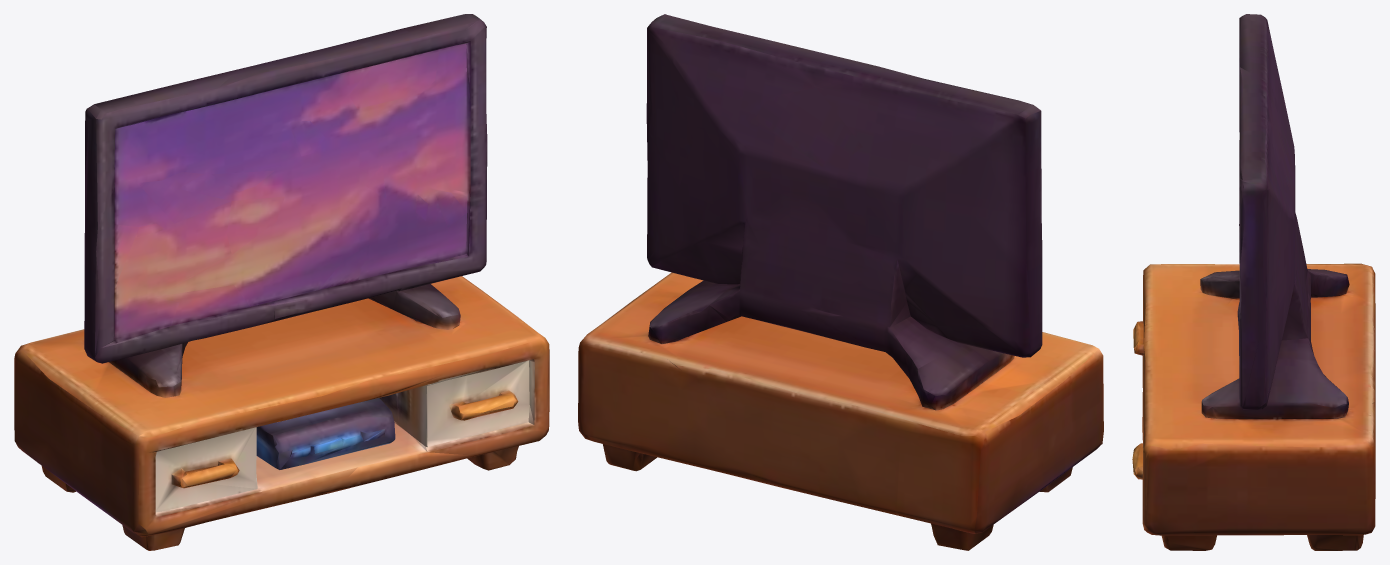
The model's file is appl10.glb.
3 views of the same model, side by side, from view 1: azimuth 30°, elevation 25°; view 2: azimuth 150°, elevation 25°; view 3: azimuth 270°, elevation 25° (orthographic). The views are drawn at different scales.
Bounding box in the file's own units: 0.2541 × 0.2412 × 0.142.
1 material, 1 textured.
